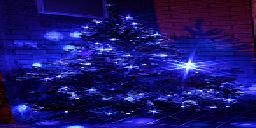LED: (179, 55, 195, 79)
